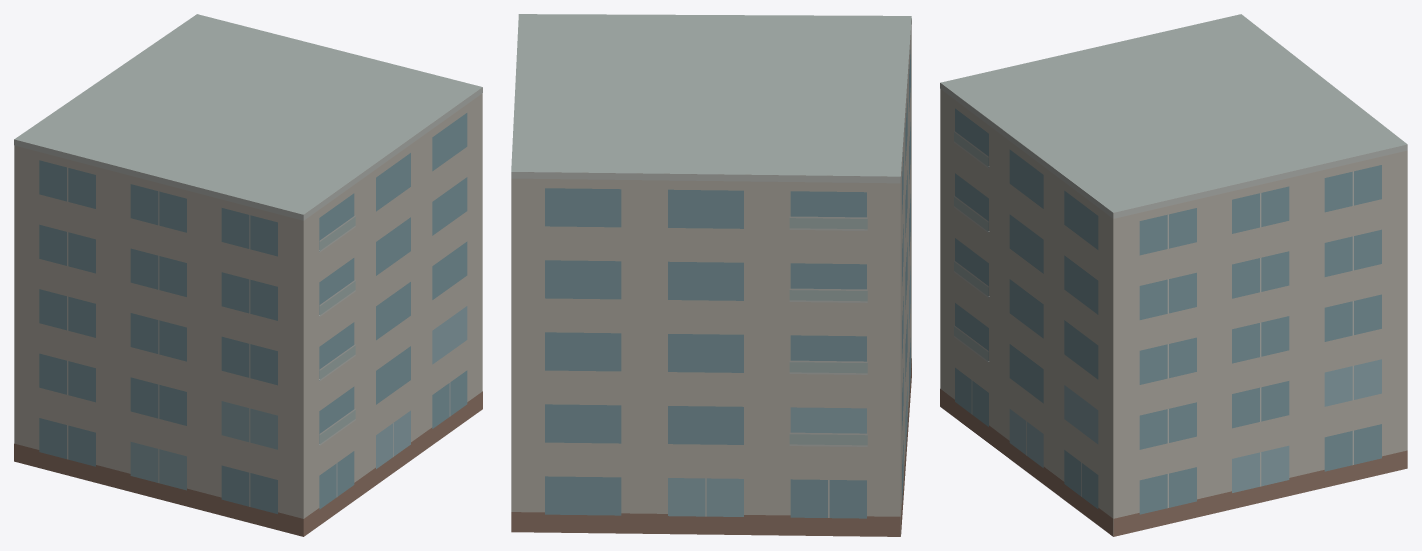
The model's file is survey-upis-32994426.glb.
The picture shows the model from 3 angles, left to right: view 1: azimuth 30°, elevation 25°; view 2: azimuth 150°, elevation 25°; view 3: azimuth 270°, elevation 25°; orthographic projection. The views are drawn at different scales.
Visible parts, largest first — view 1: survey-upis-32994426.tmp; view 2: survey-upis-32994426.tmp; view 3: survey-upis-32994426.tmp.
Part boxes in pixels (bbox=[...]): survey-upis-32994426.tmp: bbox=[14, 14, 482, 536]; survey-upis-32994426.tmp: bbox=[511, 14, 911, 536]; survey-upis-32994426.tmp: bbox=[940, 14, 1407, 536].
Bounding box in the file's own units: 17.25 × 13.1 × 17.14.
